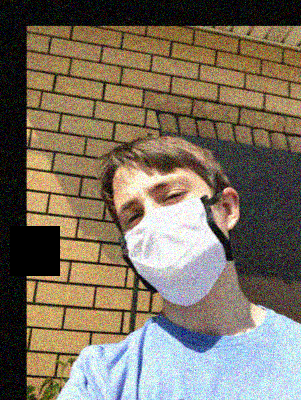with_mask: (111, 174, 238, 305)
